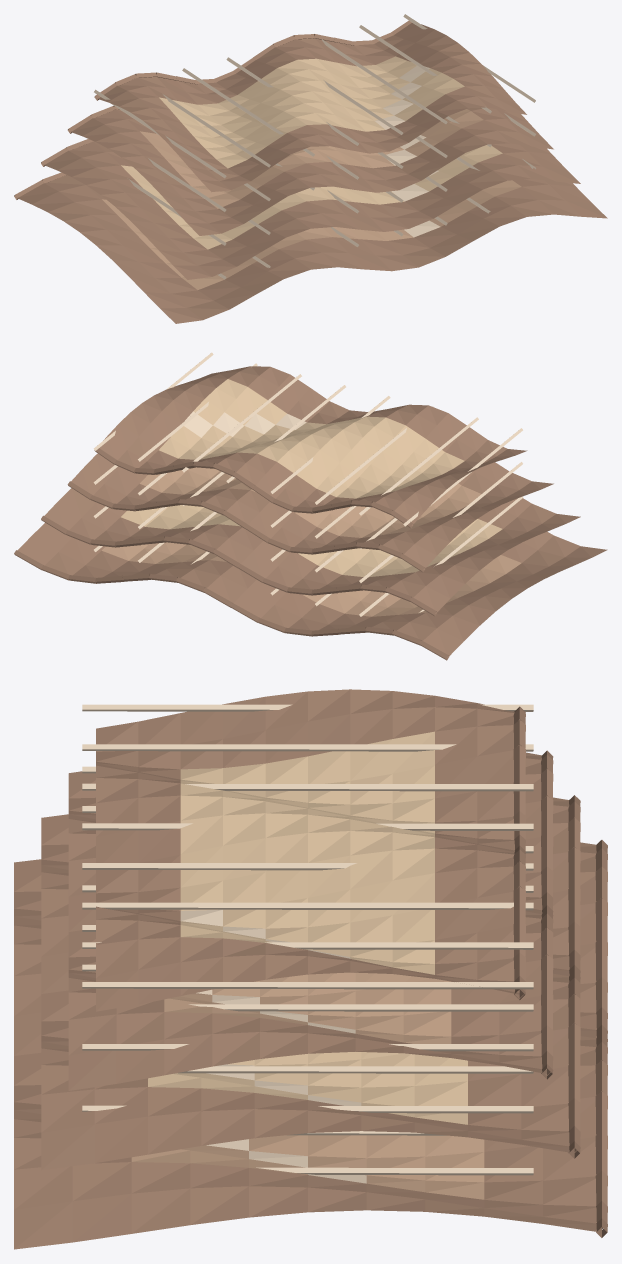
Rendered from leather.glb.
3 renders of one model, top to bottom at view 1: azimuth 30°, elevation 25°; view 2: azimuth 150°, elevation 25°; view 3: azimuth 270°, elevation 25°, orthographic. The views are drawn at different scales.
Visible parts, largest first — view 1: leather; view 2: leather; view 3: leather.
Boxes of the visible parts, x1,y1,x2,y2 form: leather: (14,14,607,323); leather: (14,352,607,660); leather: (14,689,607,1249).
Bounding box in the file's own units: 1.35 × 0.3898 × 0.869.
